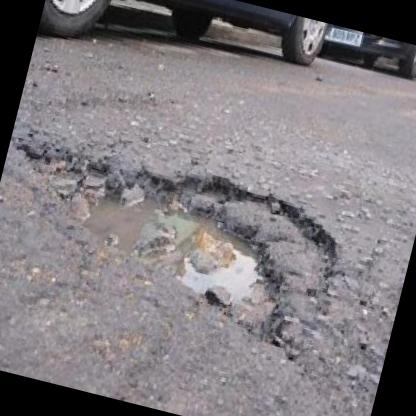pothole: (0, 121, 353, 370)
